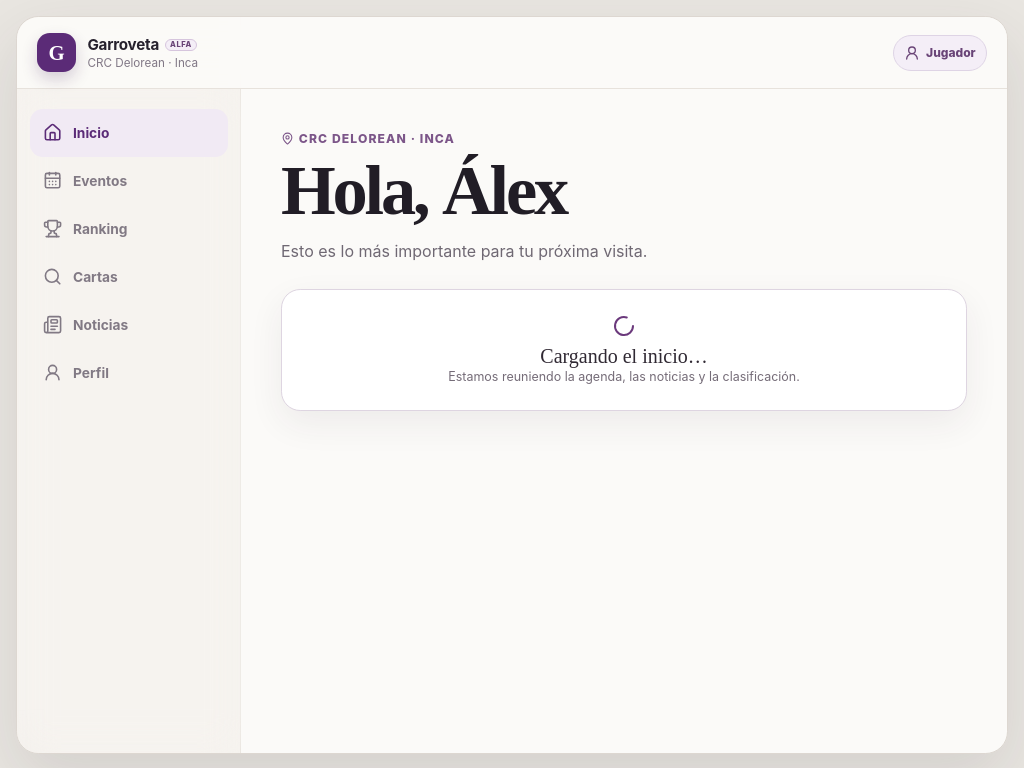
Test: App › does not expose demo events while the persisted agenda is loading
Click the link "Eventos". click: x=85, y=181
box: left=43, top=171, right=127, bottom=191
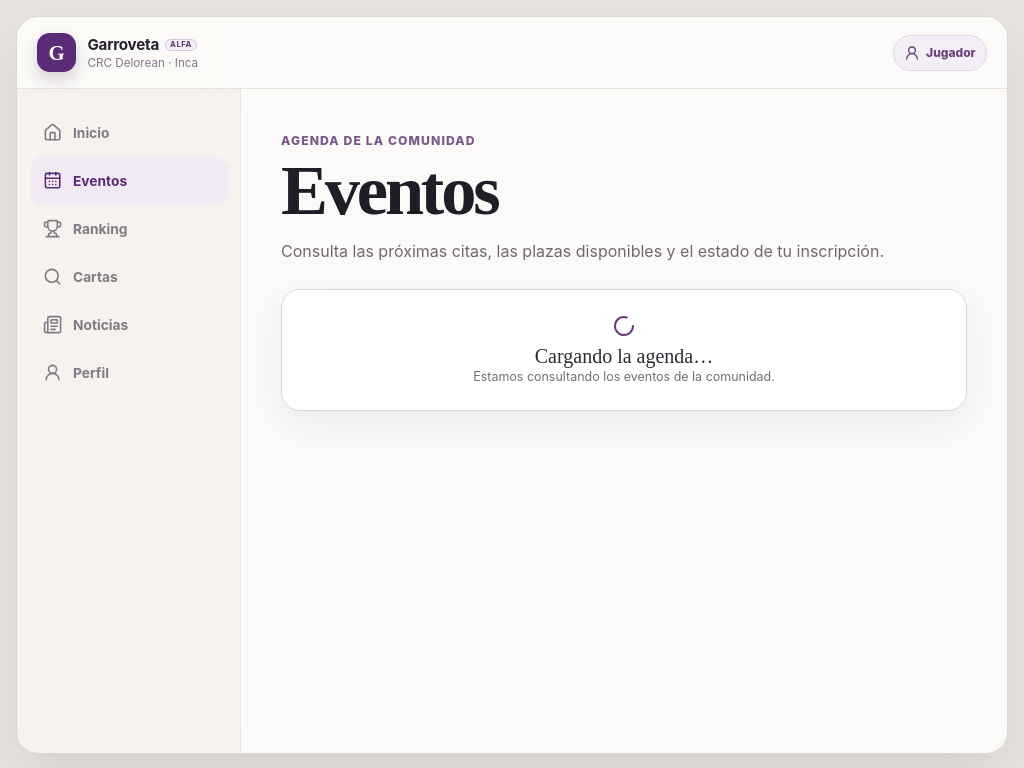
Expected: the heading "Cargando la agenda…" is shown, left=535, top=345, right=713, bottom=367
